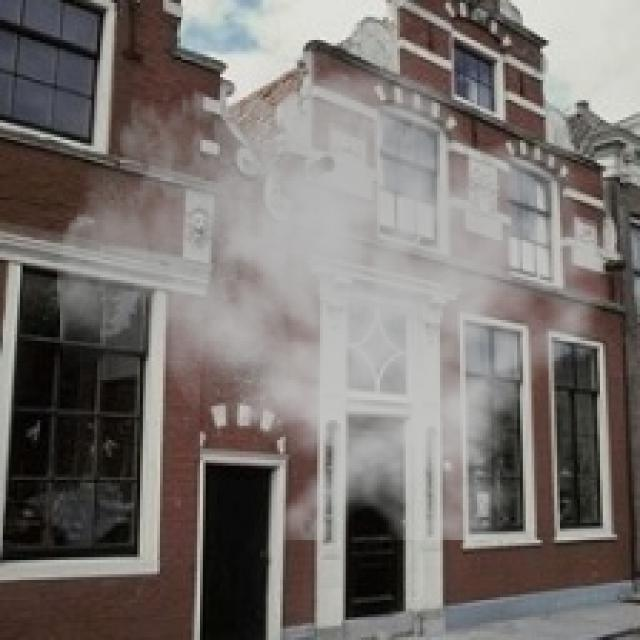Smoke: (54, 20, 623, 540)
